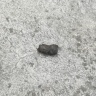Dog: (37, 43, 59, 56)
